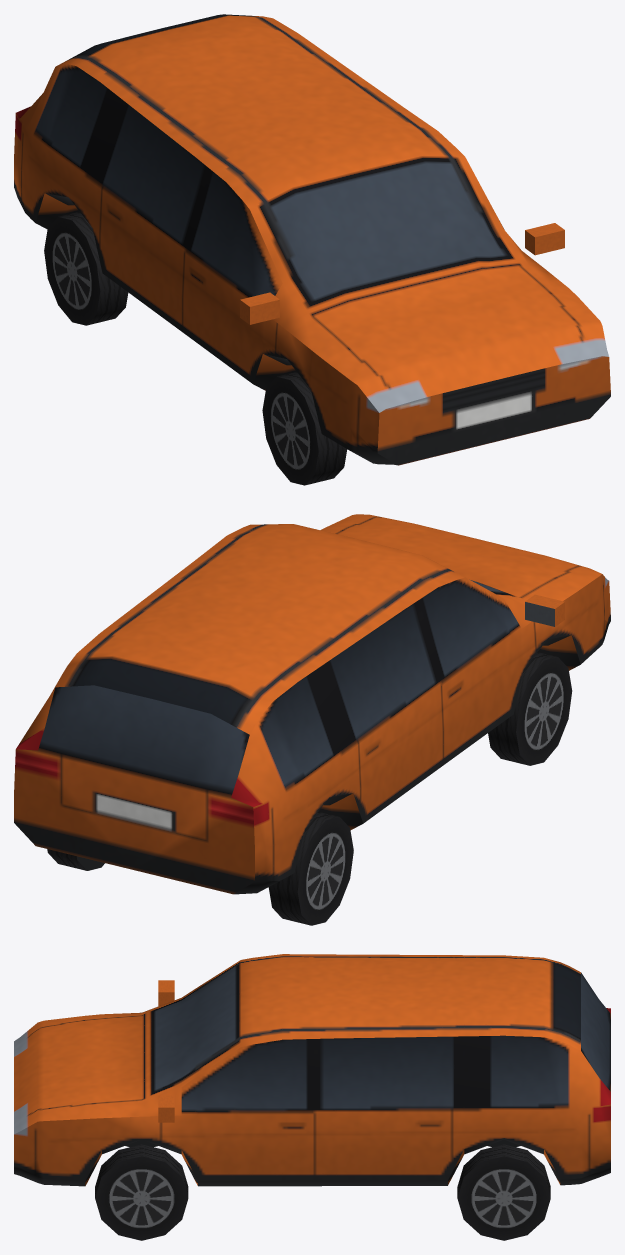
The model's file is SM_Morin_Auto_B_Col_v2_Arancio_LOD1.fbx.
3 renders of one model, top to bottom at view 1: azimuth 30°, elevation 25°; view 2: azimuth 150°, elevation 25°; view 3: azimuth 270°, elevation 25°, orthographic. The views are drawn at different scales.
Visible parts, largest first — view 1: SM_Morin_Auto_B_Col_v2_Arancio_LOD1; view 2: SM_Morin_Auto_B_Col_v2_Arancio_LOD1; view 3: SM_Morin_Auto_B_Col_v2_Arancio_LOD1.
Part boxes in pixels (x1=…): SM_Morin_Auto_B_Col_v2_Arancio_LOD1: x1=14, y1=14, x2=610, y2=485; SM_Morin_Auto_B_Col_v2_Arancio_LOD1: x1=14, y1=514, x2=610, y2=925; SM_Morin_Auto_B_Col_v2_Arancio_LOD1: x1=14, y1=954, x2=610, y2=1240.
Size of the model in its own units: 220 by 435 by 164.
1 material, 1 textured.
